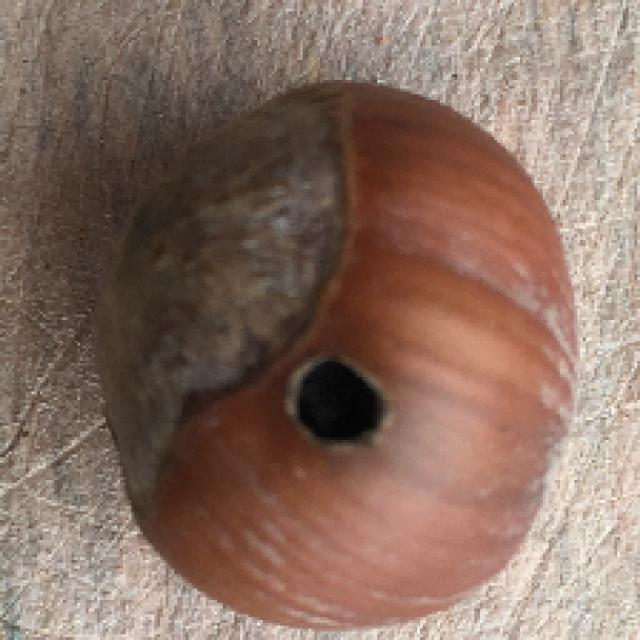DamagedHazelnut: (84, 80, 586, 631)
